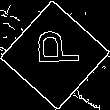P_W: (29, 35, 81, 75)
